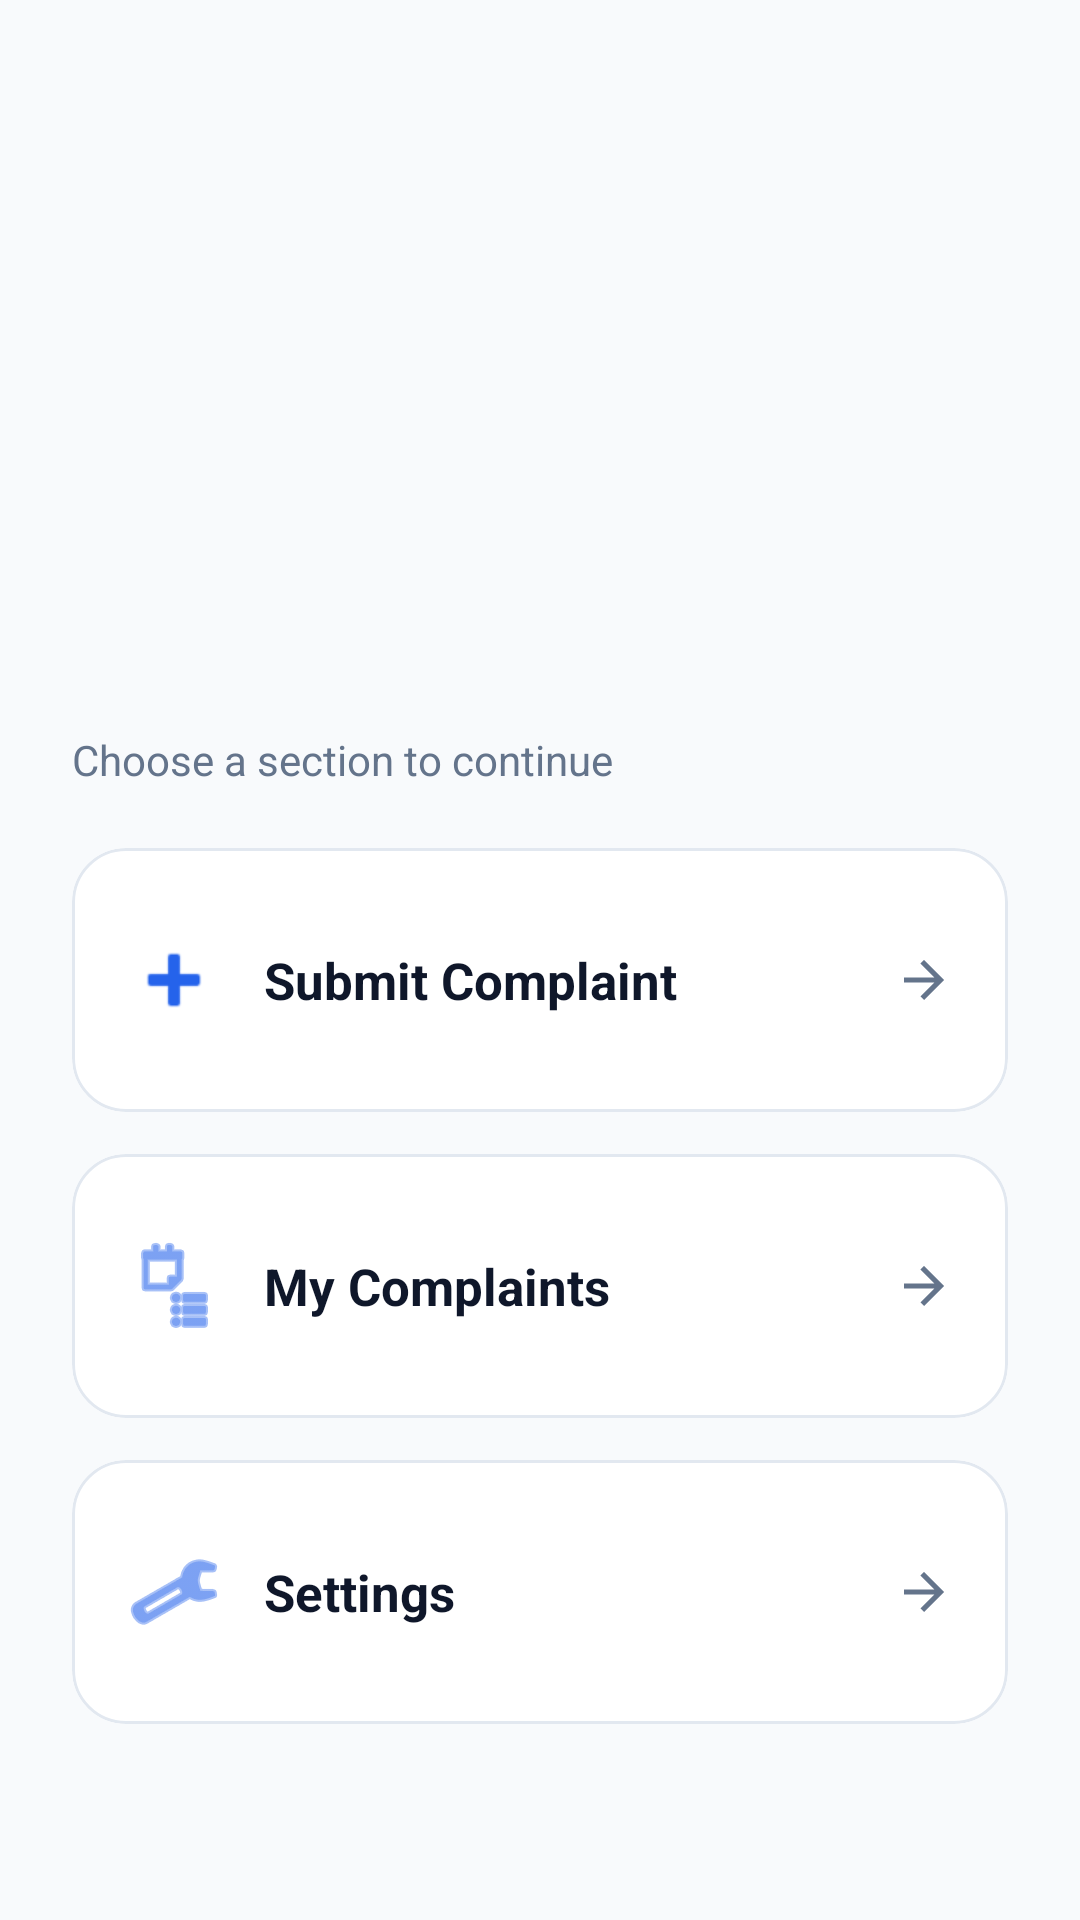

Icon click points for this 1080w x 1920h phone screenshot, format point (x, y):
arrow forward: point (924, 980), point (924, 1286), point (924, 1592)
